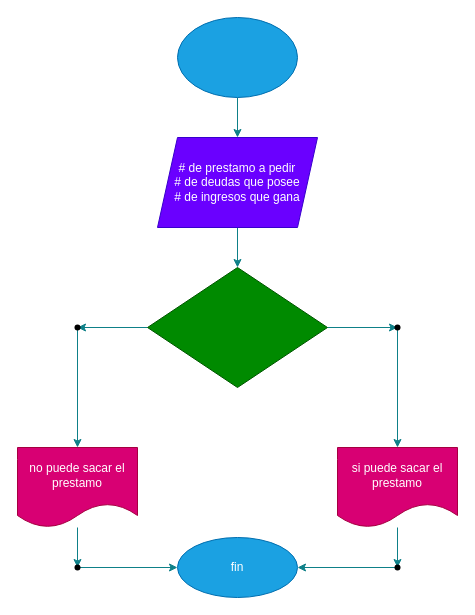
Image size: 475x615. Some labels were removed from this diagram. Here are the shapes that lost their labels. From the top down, the centre of each, then its label:
At point (237, 57): "inicio".
At point (237, 327): "ingresos>945200 deudas=0".
